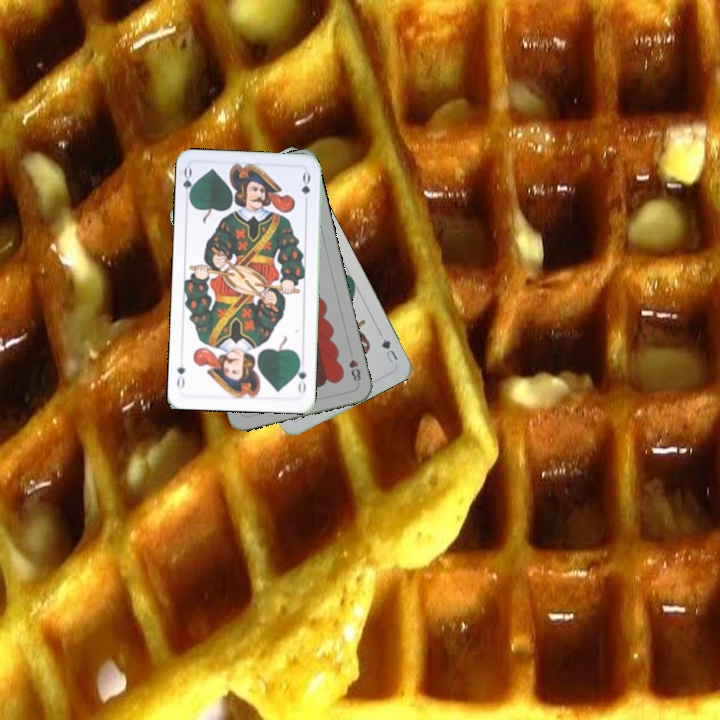GO: (179, 164, 198, 204), (292, 357, 309, 397)
GU: (377, 334, 401, 366)
H8: (345, 346, 363, 387)
